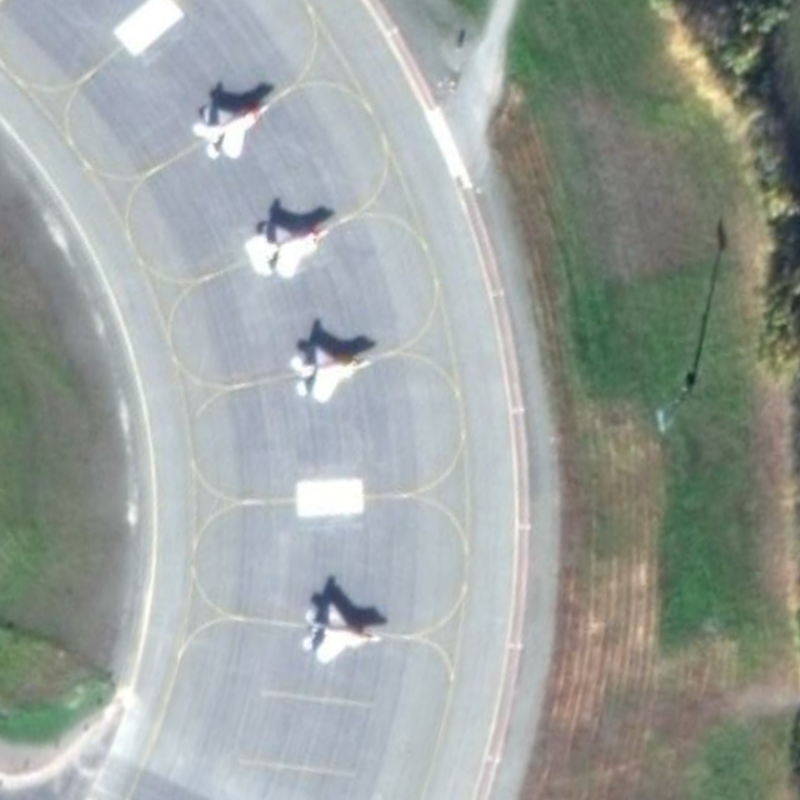A15: (281, 323, 382, 411), (236, 202, 340, 287), (188, 79, 285, 166), (292, 583, 386, 668)
